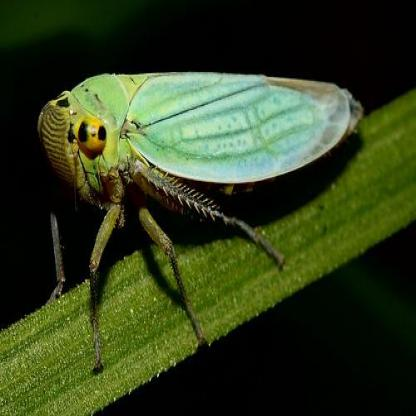Green-Leafhopper: (31, 66, 368, 370)
